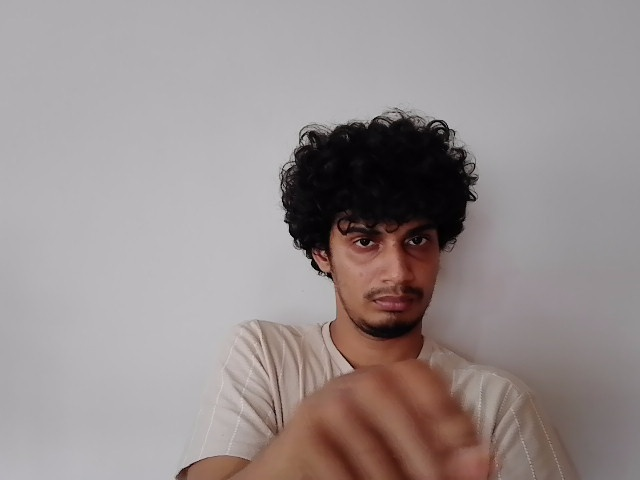you: (298, 359, 492, 480)
